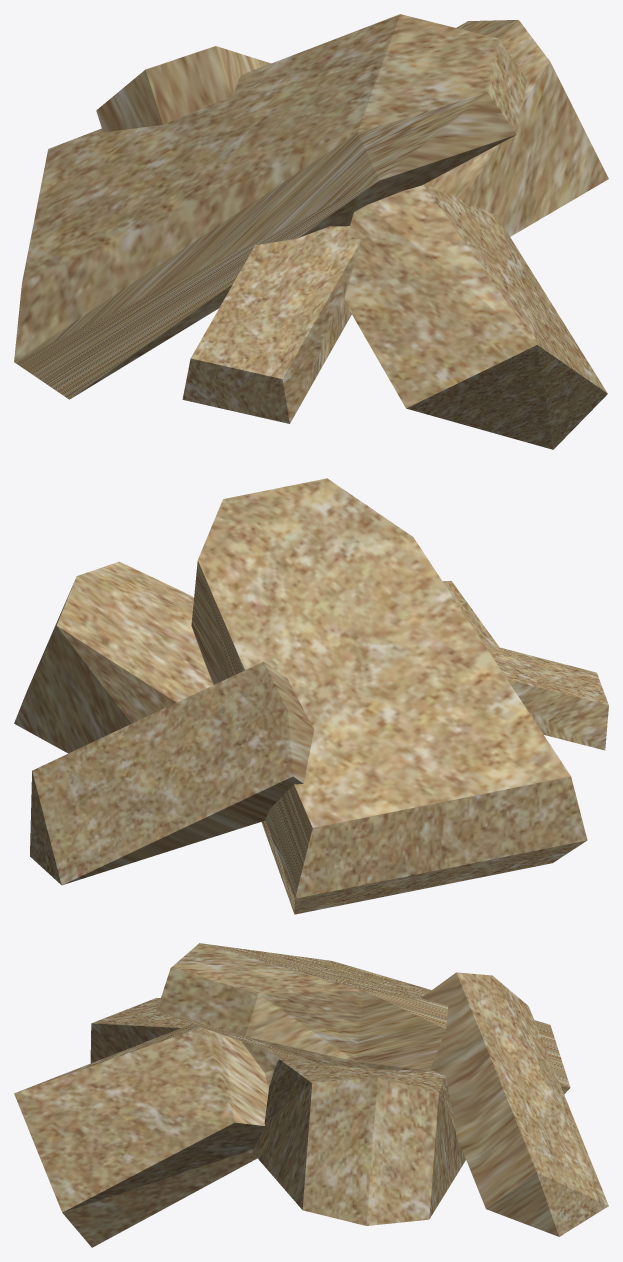
Rendered from tatt_rock_formation_a1_l3.fbx.
The picture shows the model from 3 angles, top to bottom: view 1: azimuth 30°, elevation 25°; view 2: azimuth 150°, elevation 25°; view 3: azimuth 270°, elevation 25°; orthographic projection. The views are drawn at different scales.
Visible parts, largest first — view 1: mesh_node; view 2: mesh_node; view 3: mesh_node.
Part boxes in pixels (left/top/right/bottom): mesh_node: left=14, top=14, right=608, bottom=449; mesh_node: left=14, top=478, right=608, bottom=914; mesh_node: left=14, top=943, right=608, bottom=1247.
Size of the model in its own units: 11.04 by 5.76 by 11.4.
1 material, 1 textured.
